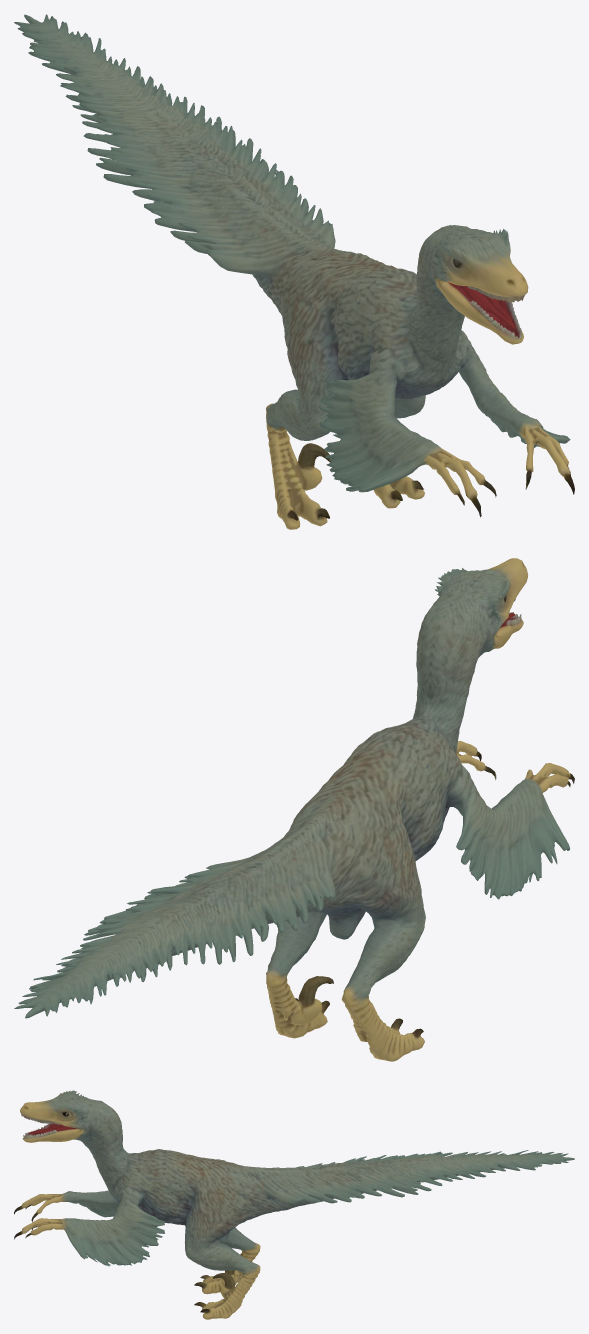
File: MZ4250 - Velociraptor.glb
The picture shows the model from 3 angles, top to bottom: view 1: azimuth 30°, elevation 25°; view 2: azimuth 150°, elevation 25°; view 3: azimuth 270°, elevation 25°; orthographic projection. The views are drawn at different scales.
Visible parts, largest first — view 1: Deinonychus_low.001; view 2: Deinonychus_low.001; view 3: Deinonychus_low.001.
Boxes of the visible parts, x1,y1,x2,y2 form: Deinonychus_low.001: [14, 14, 574, 529]; Deinonychus_low.001: [14, 558, 574, 1061]; Deinonychus_low.001: [14, 1090, 574, 1319].
Bounding box in the file's own units: 1.91 × 3.19 × 7.88.
Materials: 1 (1 with a texture image).
